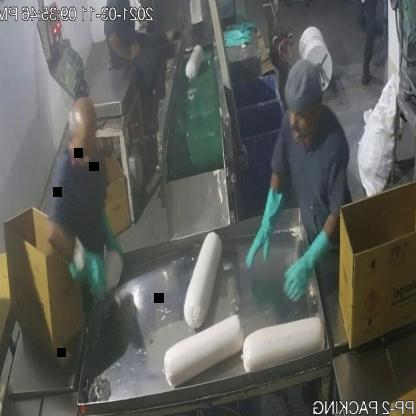glove: (276, 219, 337, 320), (234, 177, 286, 282)
no_glove: (103, 26, 147, 63)
